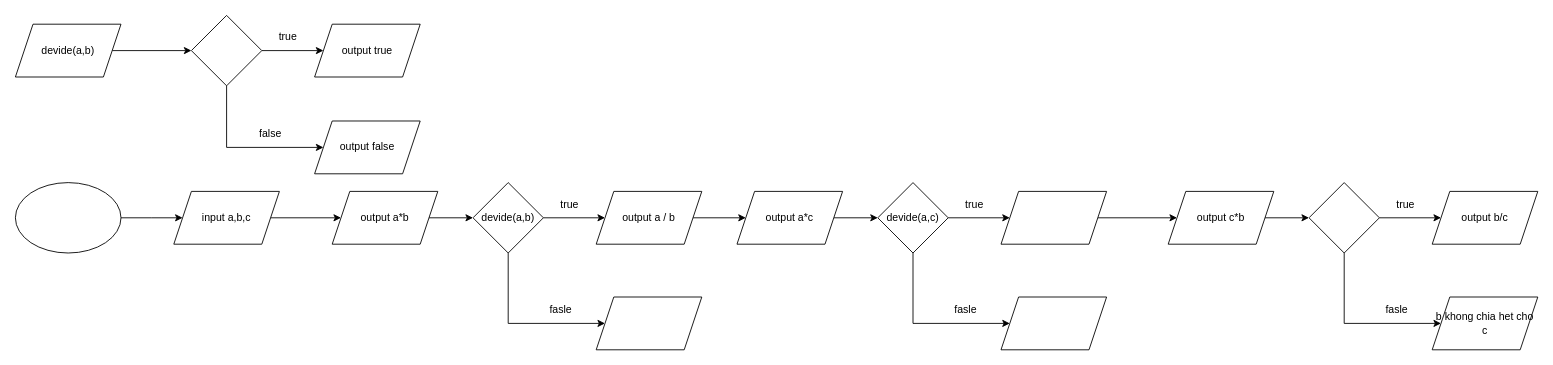
This 1553x365 diagram has some shape labels left out. Here are the shapes that lost their labels. From the top down, the box of each, then its label:
(191, 15, 262, 86): a%b == 0
(15, 182, 121, 253): start
(1000, 191, 1107, 244): output a /c
(1308, 182, 1379, 253): devide(b,c)
(595, 296, 702, 350): output a khong chia het cho b
(1000, 296, 1107, 350): c khong chia het cho a
